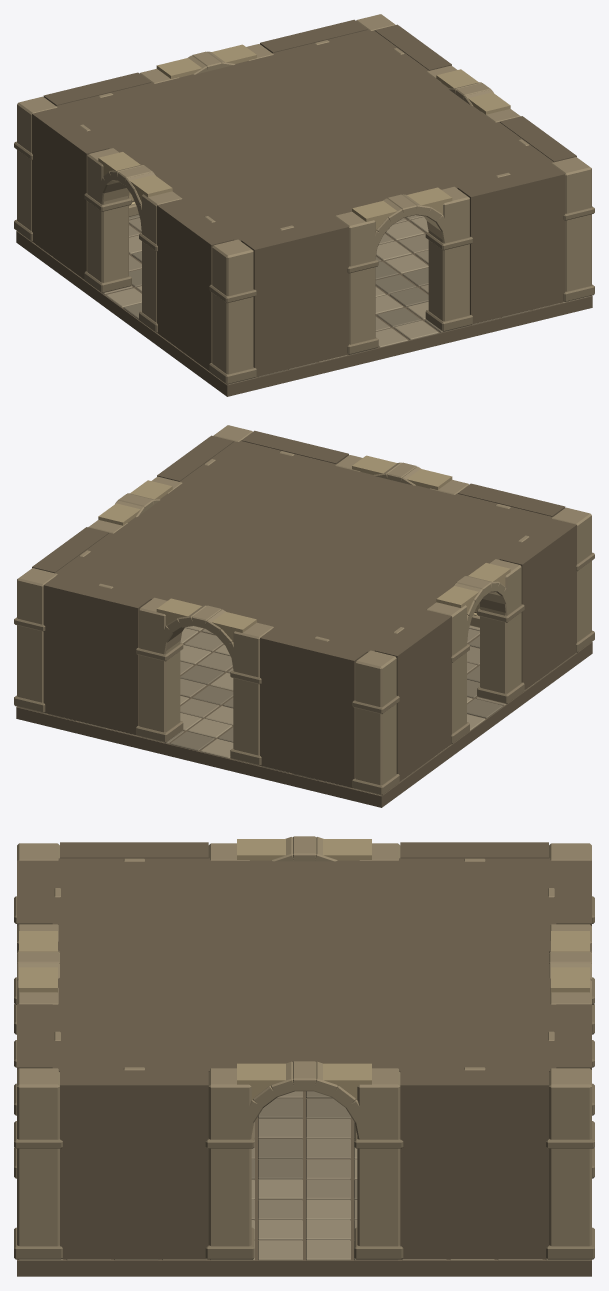
Rendered from cripta-stanza.glb.
3 renders of one model, top to bottom at view 1: azimuth 30°, elevation 25°; view 2: azimuth 150°, elevation 25°; view 3: azimuth 270°, elevation 25°, orthographic. The views are drawn at different scales.
Visible parts, largest first — view 1: cripta-stanza2; view 2: cripta-stanza2; view 3: cripta-stanza2.
Part boxes in pixels (<box>): cripta-stanza2: <box>14,14,594,396</box>; cripta-stanza2: <box>14,425,594,807</box>; cripta-stanza2: <box>14,836,594,1276</box>.
Size of the model in its own units: 12.12 by 4.55 by 12.12.
